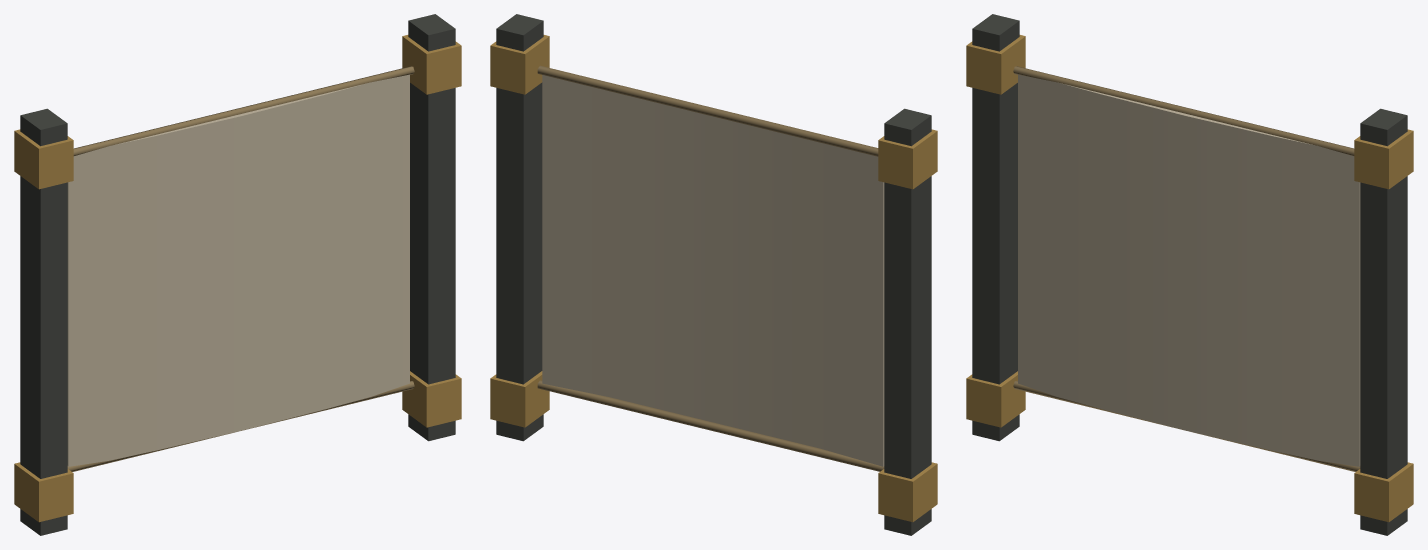
File: sand_screen.glb
The picture shows the model from 3 angles, left to right: view 1: azimuth 30°, elevation 25°; view 2: azimuth 150°, elevation 25°; view 3: azimuth 330°, elevation 25°; orthographic projection.
Parts seen in each view (by area): view 1: sand_screen; view 2: sand_screen; view 3: sand_screen.
Boxes of the visible parts, left/top/right/bottom form: sand_screen: left=14, top=14, right=461, bottom=535; sand_screen: left=490, top=14, right=937, bottom=535; sand_screen: left=966, top=14, right=1413, bottom=535.
Bounding box in the file's own units: 2.18 × 2 × 0.22.
